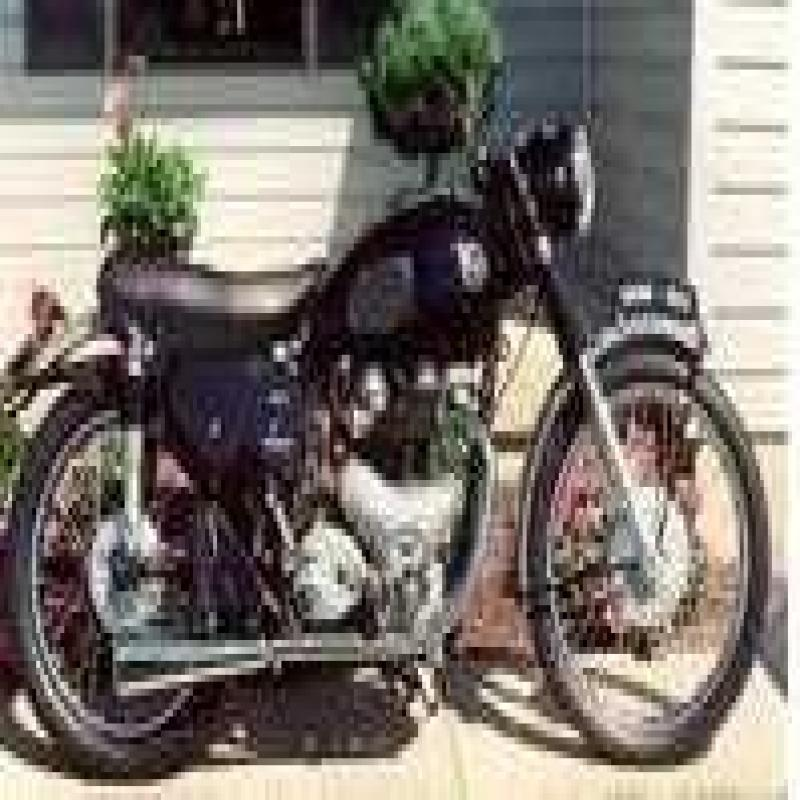bike: (13, 66, 793, 800)
